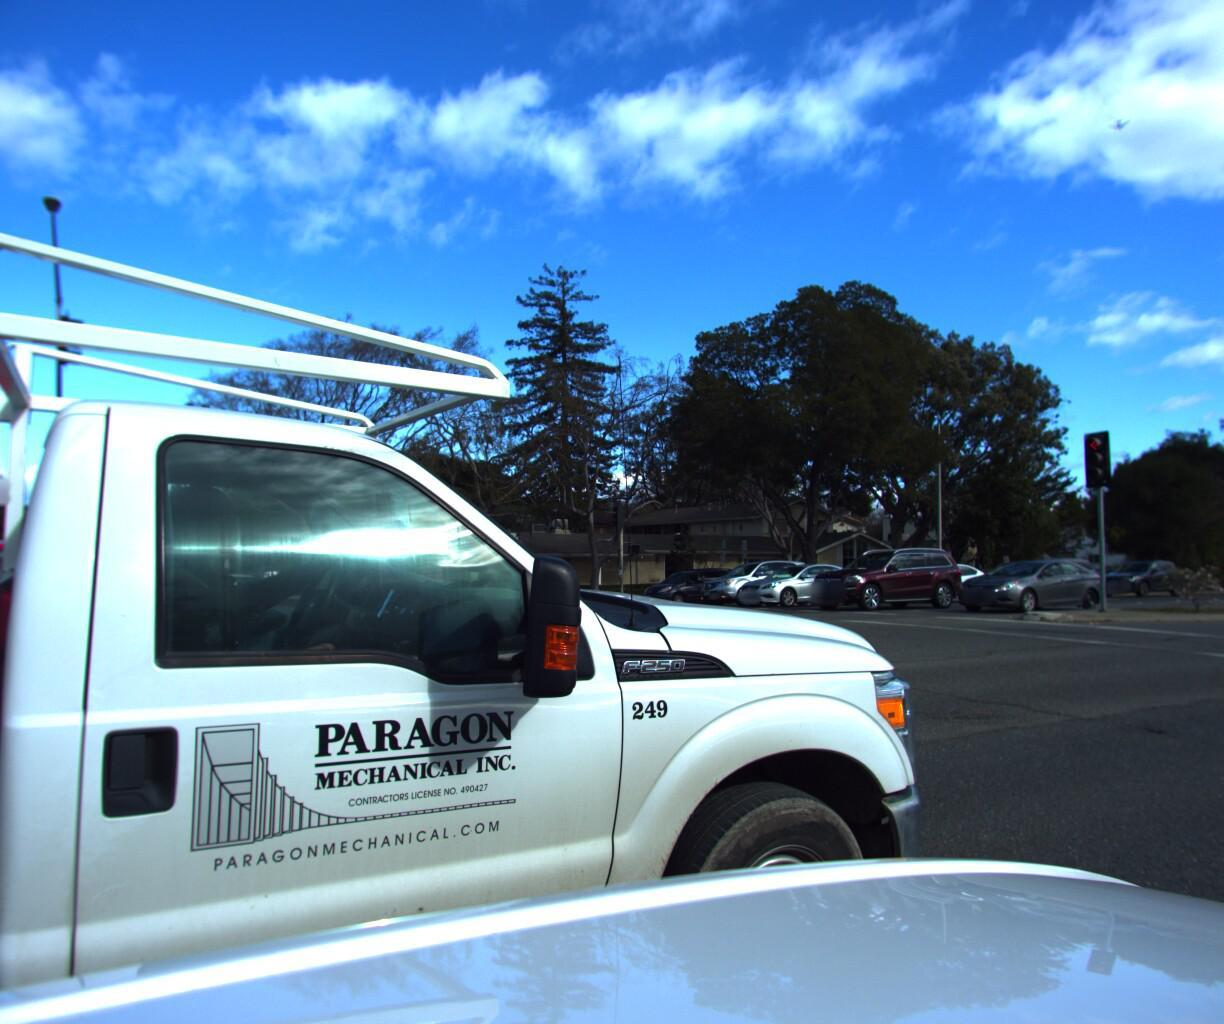car: (942, 545, 1116, 611), (804, 542, 971, 610), (730, 557, 871, 606), (689, 555, 821, 603), (861, 551, 984, 602), (638, 565, 749, 608), (1092, 552, 1187, 593), (207, 569, 267, 604), (1218, 558, 1224, 594)
